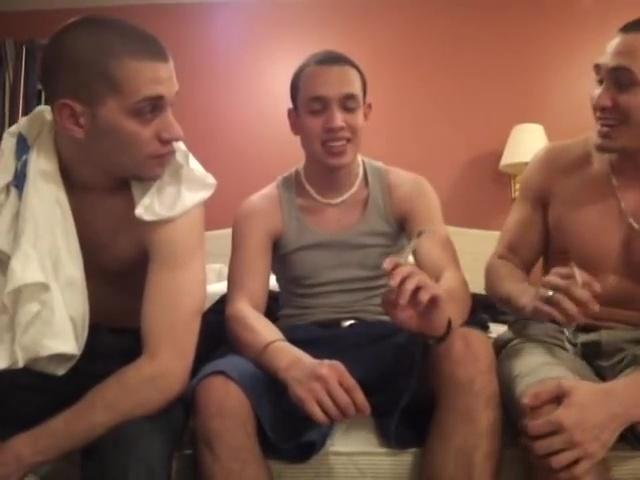cigarette: (401, 225, 426, 268), (570, 260, 586, 284)
